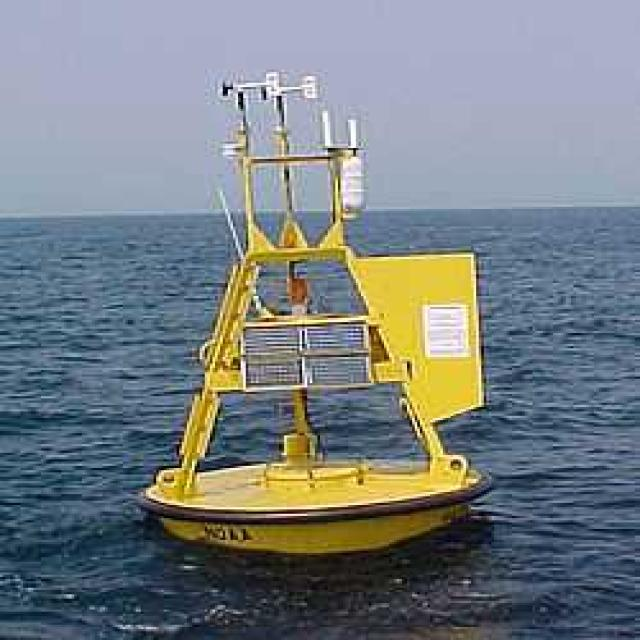buoy: (133, 56, 500, 564)
